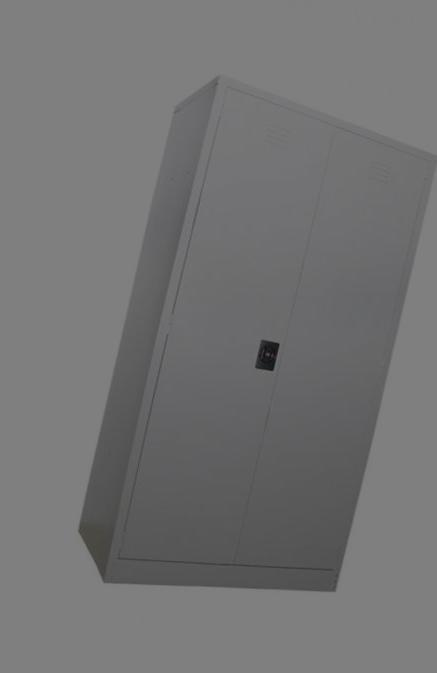Armario: (69, 74, 424, 610)
